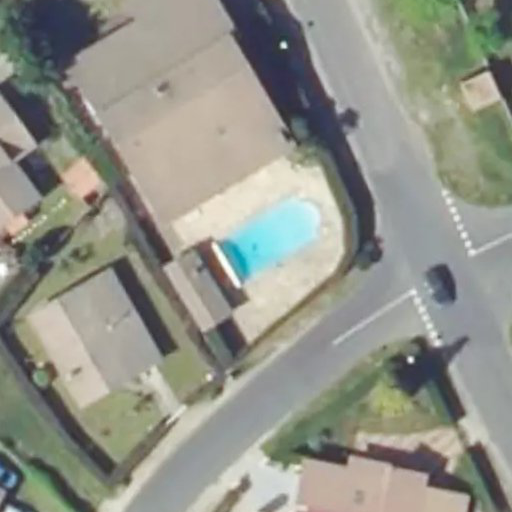pool: (215, 193, 326, 280)
